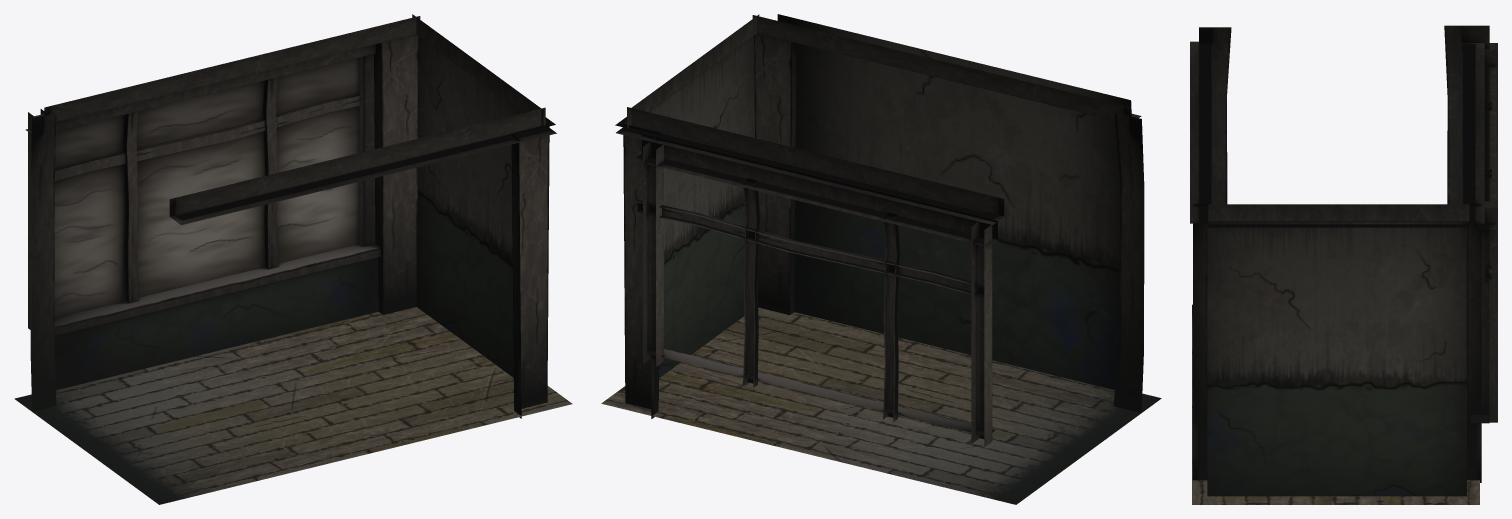
File: HallwayEnd 2.fbx
3 views of the same model, side by side, from view 1: azimuth 30°, elevation 25°; view 2: azimuth 150°, elevation 25°; view 3: azimuth 270°, elevation 25° (orthographic).
Visible parts, largest first — view 1: HallWayEnd3, Hallway1.001, HallWayEnd2, HallWayEnd4; view 2: HallWayEnd4, Hallway1.001, HallWayEnd3, HallWayEnd2; view 3: HallWayEnd2, HallWayEnd3, HallWayEnd4, Hallway1.001.
Part boxes in pixels (x1,y1,x2,y2): HallWayEnd3: (25,16,420,411); Hallway1.001: (14,307,572,504); HallWayEnd2: (412,14,555,402); HallWayEnd4: (169,107,556,418); HallWayEnd4: (752,14,1144,412); Hallway1.001: (601,307,1161,504); HallWayEnd3: (616,107,1004,446); HallWayEnd2: (615,14,759,377); HallWayEnd2: (1207,204,1469,496); HallWayEnd3: (1444,25,1497,482); HallWayEnd4: (1190,27,1231,480); Hallway1.001: (1192,304,1479,504).
Size of the model in its own units: 311 by 212 by 202.
